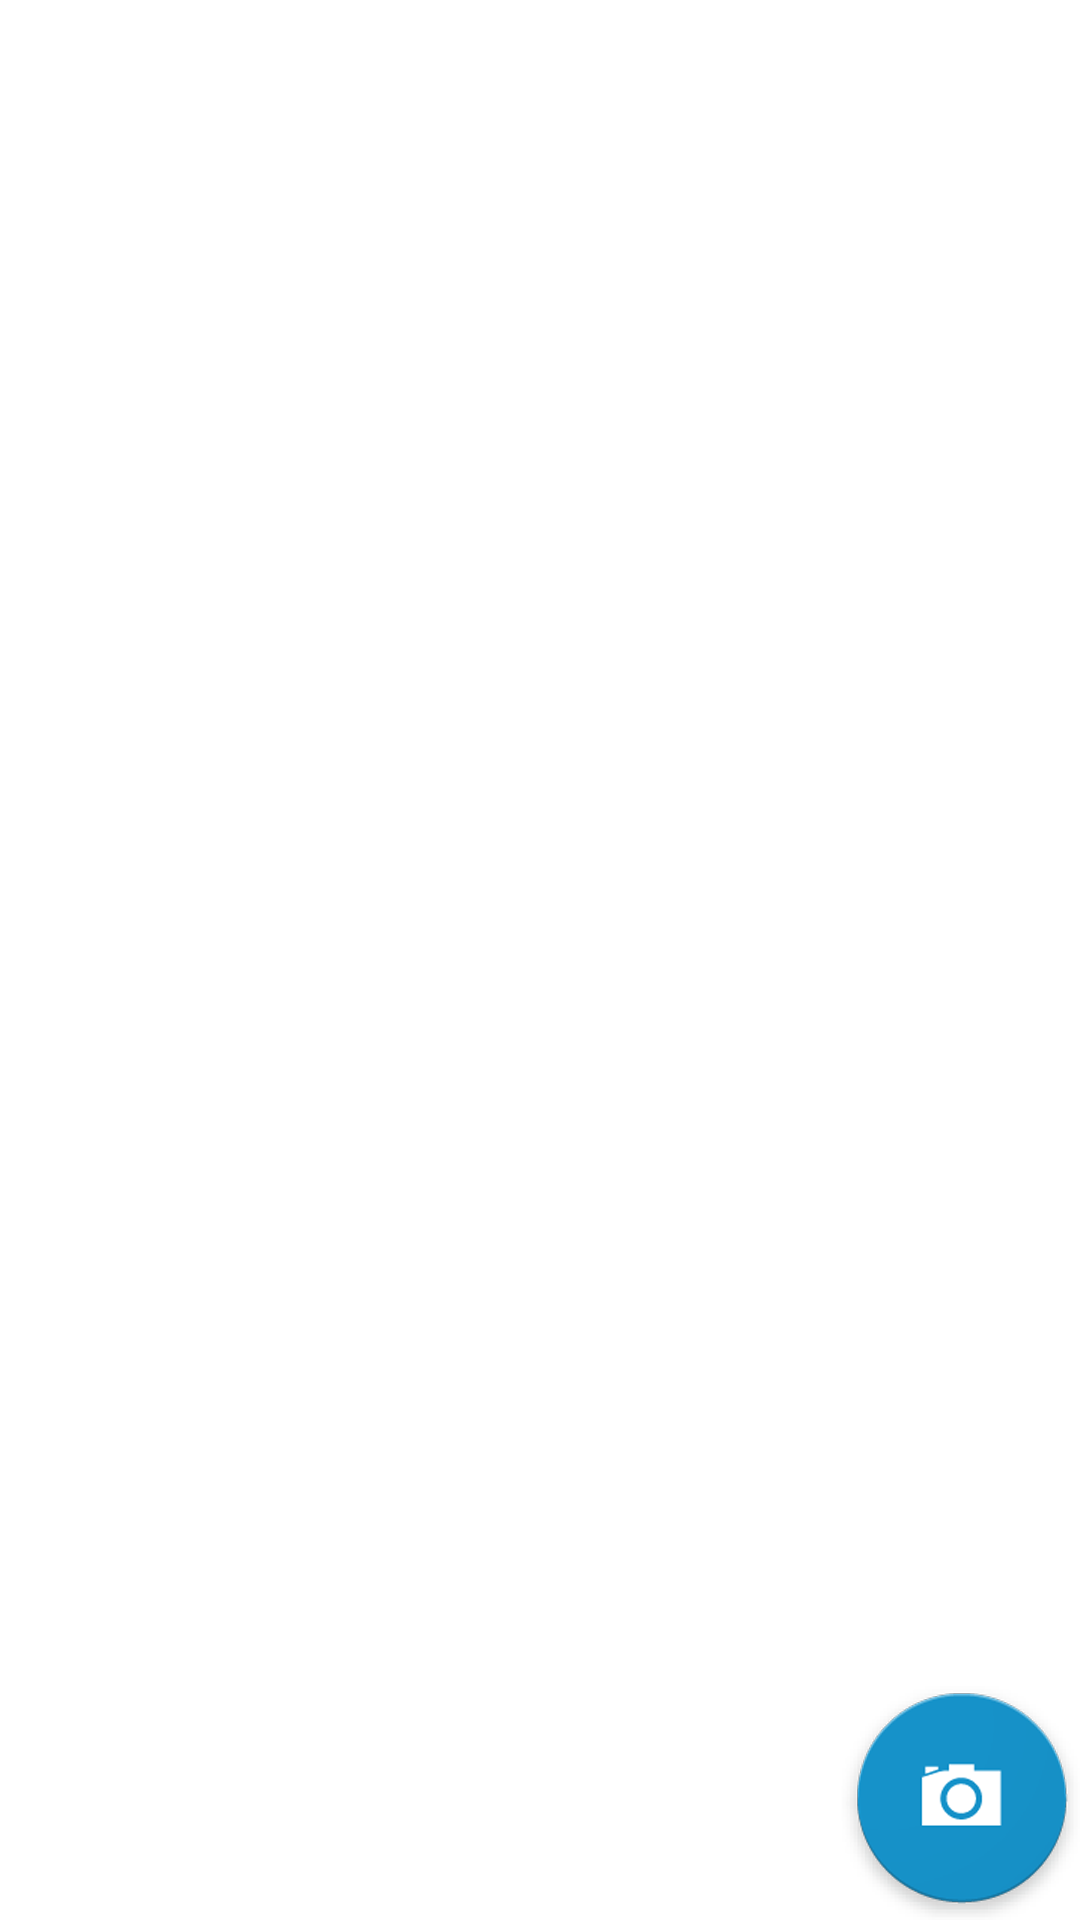

Screen size 1080px x 1920px. Icon name, then its center in pixels as (x,y):
scan: (961,1801)
